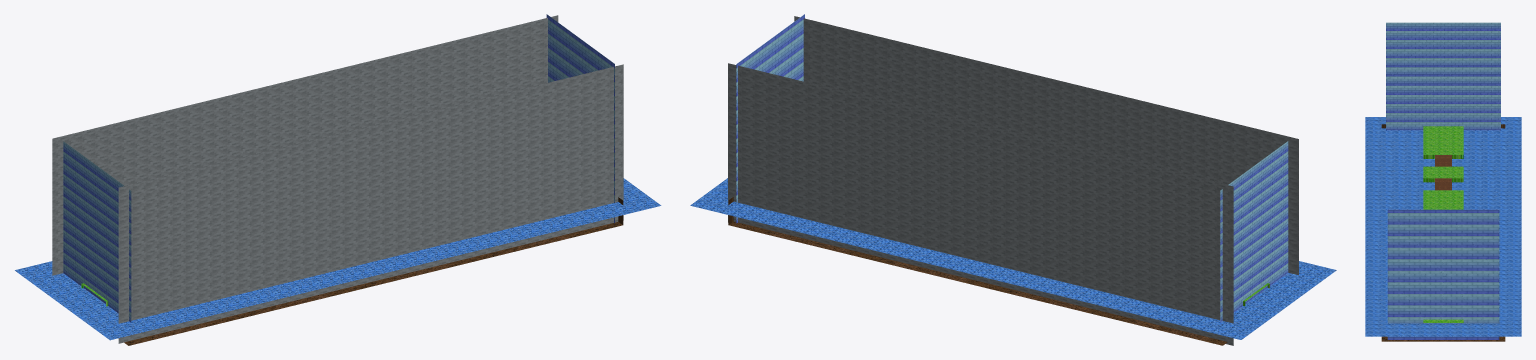
Rendered from valleyway.glb.
3 views of the same model, side by side, from view 1: azimuth 30°, elevation 25°; view 2: azimuth 150°, elevation 25°; view 3: azimuth 270°, elevation 25° (orthographic). The views are drawn at different scales.
Visible parts, largest first — view 1: WestWall, EastWall, Water, NorthWall, UnderWater, SouthWall; view 2: EastWall, WestWall, Water, NorthWall, UnderWater, SouthWall; view 3: Water, SouthWall, NorthWall, Land.001, UnderWater, Bridge2, Bridge1, Land.
Boxes of the visible parts, bbox=[...] form: WestWall: bbox=[118, 64, 623, 343]; EastWall: bbox=[52, 15, 558, 275]; Water: bbox=[15, 178, 661, 340]; NorthWall: bbox=[63, 141, 131, 322]; UnderWater: bbox=[124, 197, 623, 345]; SouthWall: bbox=[546, 14, 614, 223]; EastWall: bbox=[728, 63, 1233, 345]; WestWall: bbox=[794, 16, 1298, 275]; Water: bbox=[690, 178, 1336, 339]; NorthWall: bbox=[1220, 141, 1288, 322]; UnderWater: bbox=[728, 197, 1227, 345]; SouthWall: bbox=[736, 14, 804, 223]; Water: bbox=[1365, 117, 1521, 336]; SouthWall: bbox=[1387, 209, 1499, 339]; NorthWall: bbox=[1386, 22, 1500, 130]; Land.001: bbox=[1423, 126, 1463, 209]; UnderWater: bbox=[1381, 124, 1505, 341]; Bridge2: bbox=[1435, 178, 1451, 190]; Bridge1: bbox=[1435, 155, 1451, 166]; Land: bbox=[1423, 319, 1463, 322].
Bounding box in the file's own units: 548 × 154 × 165.
Materials: 9 (9 with a texture image).
